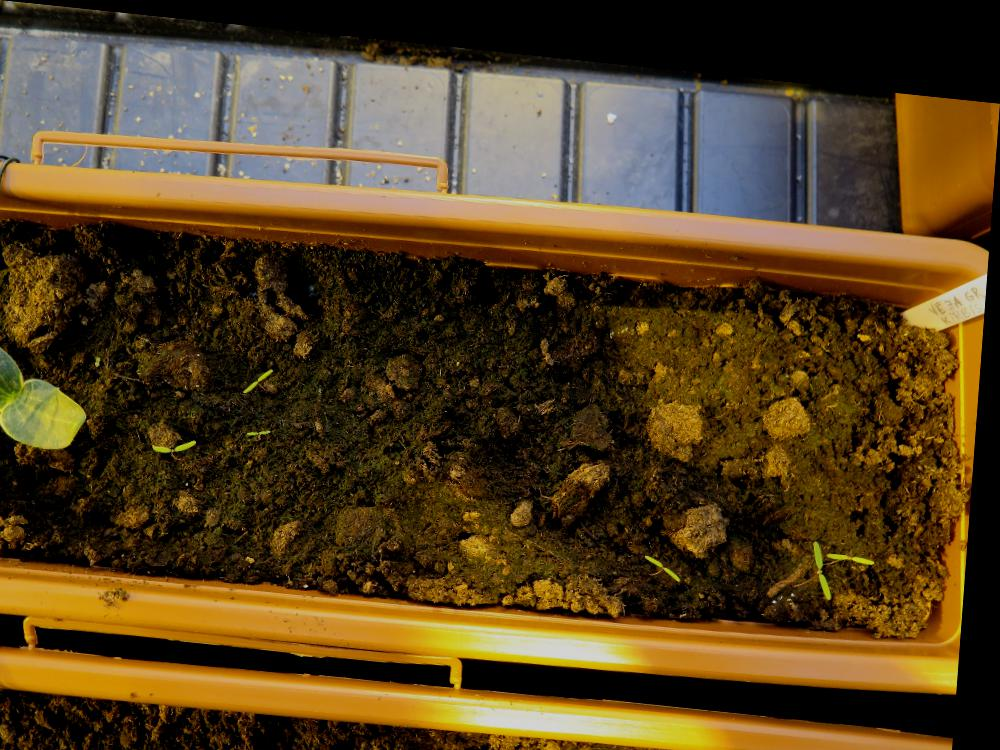weed: (648, 537, 690, 567), (156, 429, 203, 452), (246, 358, 278, 389), (832, 531, 883, 546), (250, 419, 278, 433)
